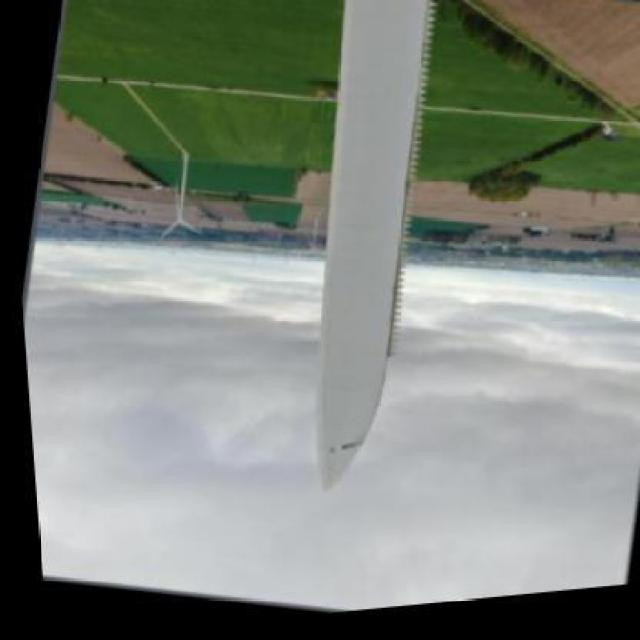Burn Mark: (334, 437, 362, 457)
